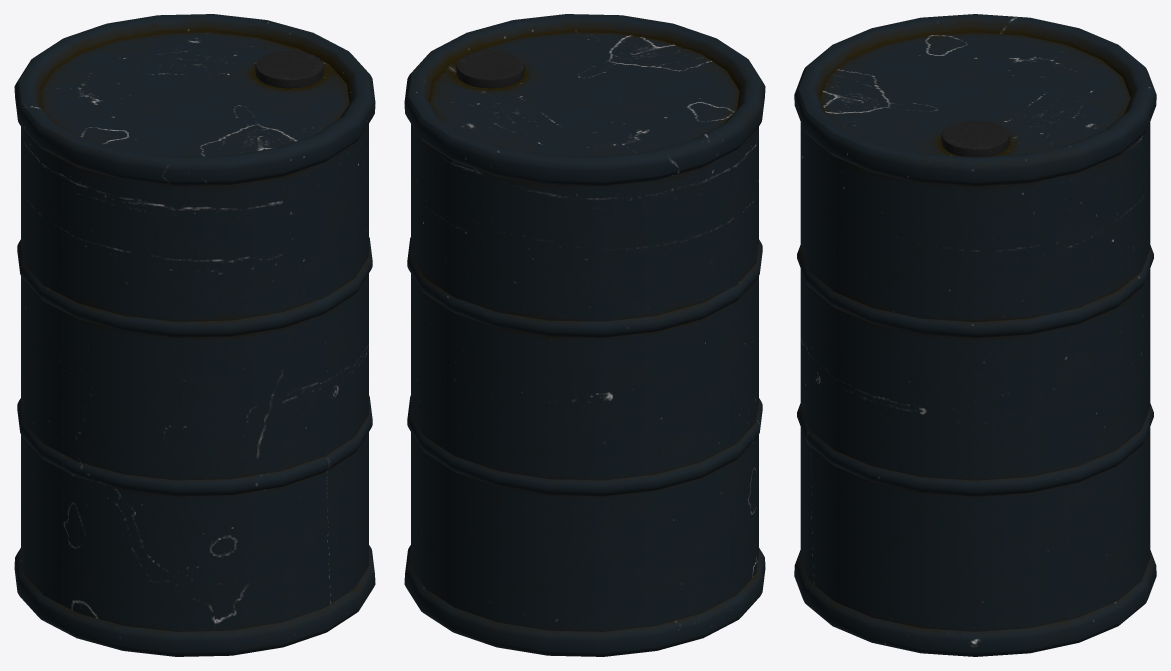
Rendered from C_Barrel.fbx.
The picture shows the model from 3 angles, left to right: view 1: azimuth 30°, elevation 25°; view 2: azimuth 150°, elevation 25°; view 3: azimuth 270°, elevation 25°; orthographic projection.
Parts seen in each view (by area): view 1: pCylinder1, pCylinder2; view 2: pCylinder1, pCylinder2; view 3: pCylinder1, pCylinder2.
Part boxes in pixels (bbox=[...]): pCylinder1: bbox=[14, 14, 375, 656]; pCylinder2: bbox=[255, 51, 323, 88]; pCylinder1: bbox=[404, 14, 765, 656]; pCylinder2: bbox=[456, 51, 524, 88]; pCylinder1: bbox=[794, 14, 1156, 656]; pCylinder2: bbox=[941, 120, 1009, 157].
Size of the model in its own units: 4.15 by 6.27 by 4.15.
